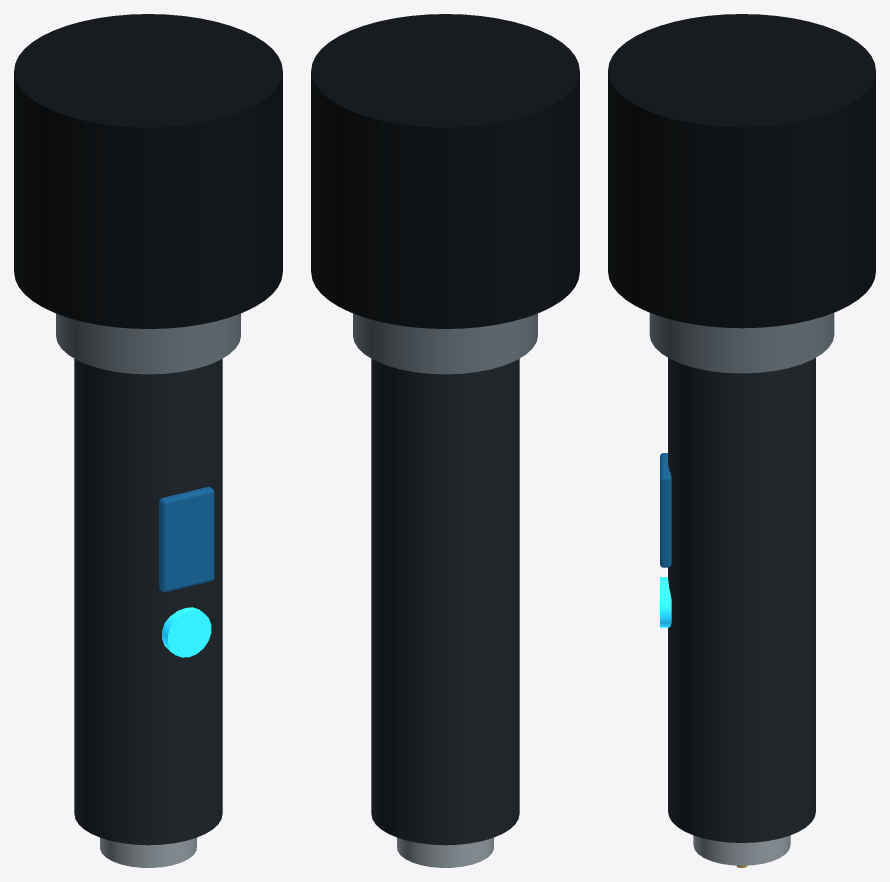
File: professional-microphone.glb
3 renders of one model, left to right at view 1: azimuth 30°, elevation 25°; view 2: azimuth 150°, elevation 25°; view 3: azimuth 270°, elevation 25°, orthographic.
Visible parts, largest first — view 1: Metal grille, Microphone handle, Head collar, Status screen, XLR connector, Mute key; view 2: Metal grille, Microphone handle, Head collar, XLR connector; view 3: Metal grille, Microphone handle, Head collar, XLR connector, Status screen, Mute key.
Part boxes in pixels (box(x1,y1,x2,y2)): Metal grille: box(14, 14, 282, 328); Microphone handle: box(74, 358, 222, 845); Head collar: box(56, 313, 240, 374); Status screen: box(159, 487, 214, 592); XLR connector: box(100, 837, 196, 867); Mute key: box(162, 607, 211, 657); Metal grille: box(311, 14, 579, 328); Microphone handle: box(371, 358, 519, 845); Head collar: box(353, 313, 537, 374); XLR connector: box(397, 837, 493, 867); Metal grille: box(608, 14, 875, 328); Microphone handle: box(668, 358, 815, 842); Head collar: box(649, 313, 834, 373); XLR connector: box(693, 835, 790, 865); Status screen: box(660, 453, 671, 567); Mute key: box(660, 577, 671, 627).
Size of the model in its own units: 0.58 by 1.88 by 0.58.
